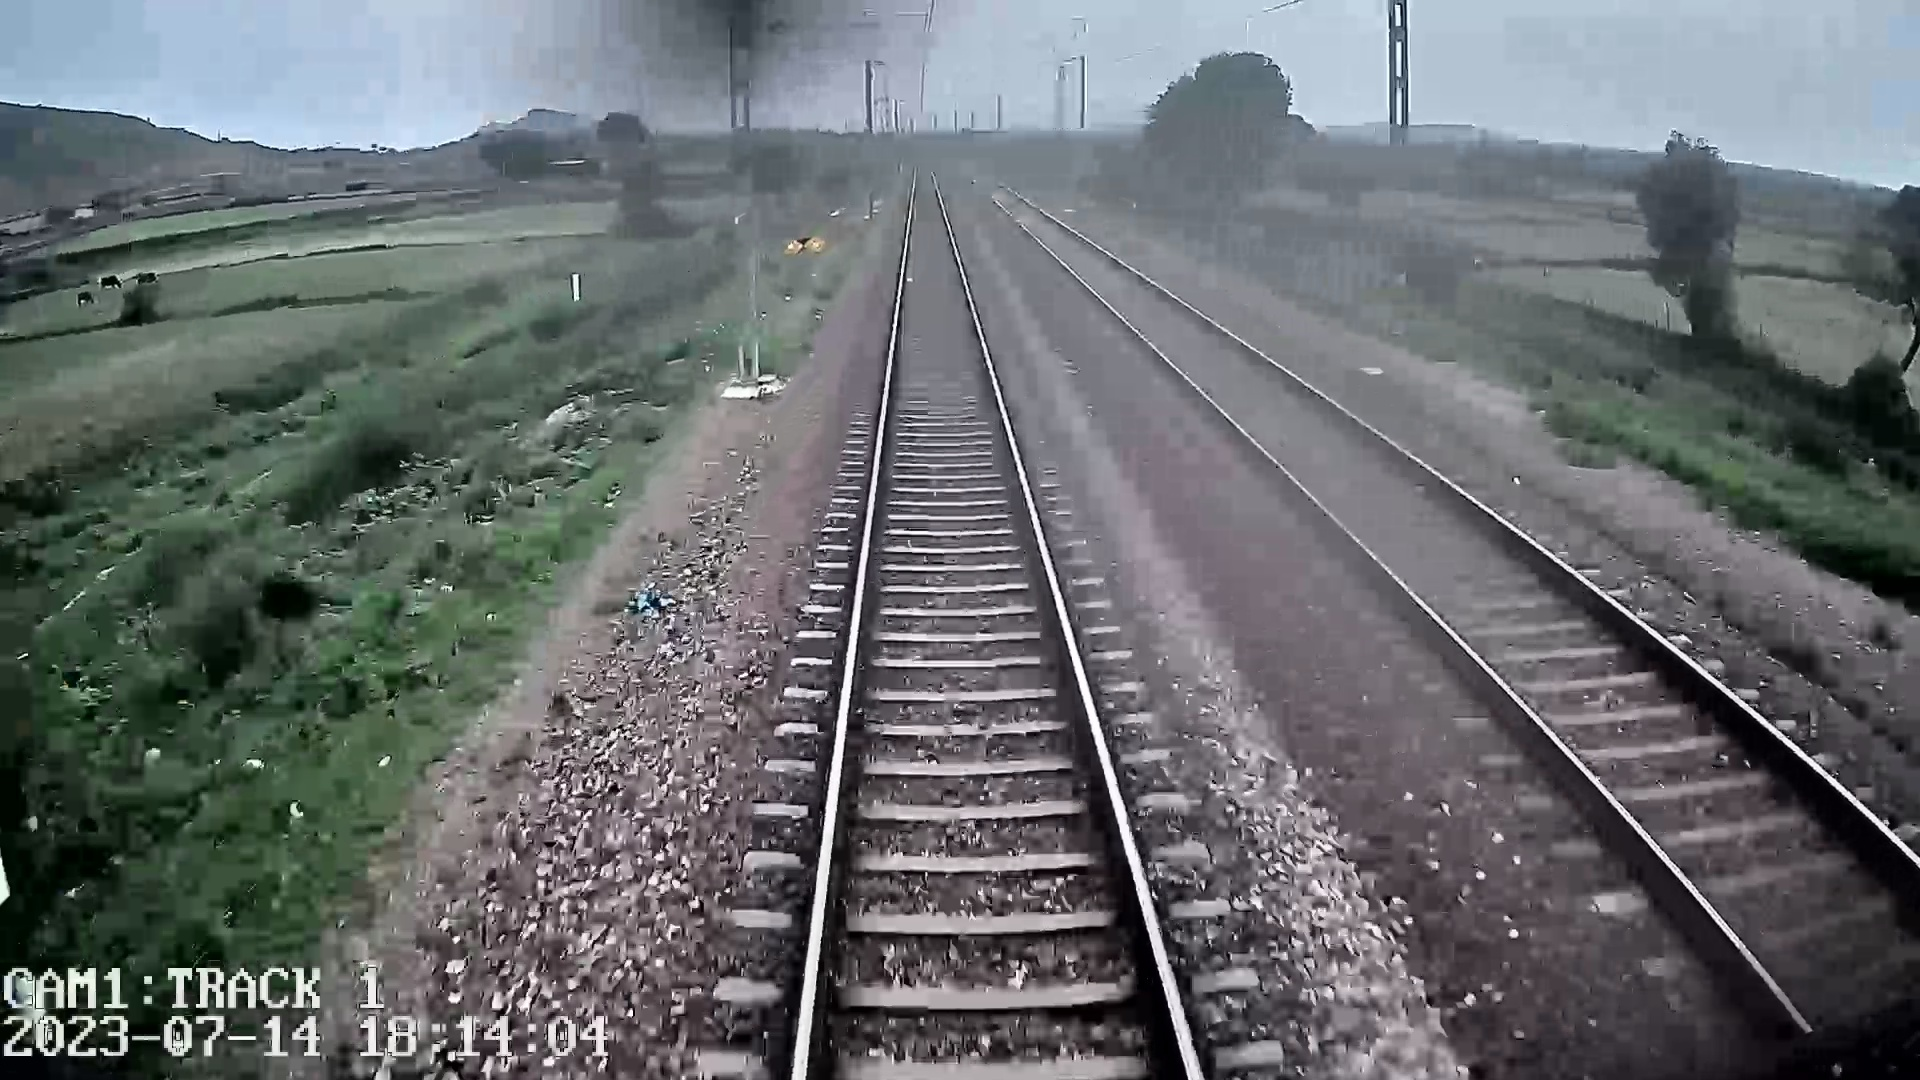track1: (800, 173, 1191, 1068)
track2: (990, 190, 1919, 1033)
